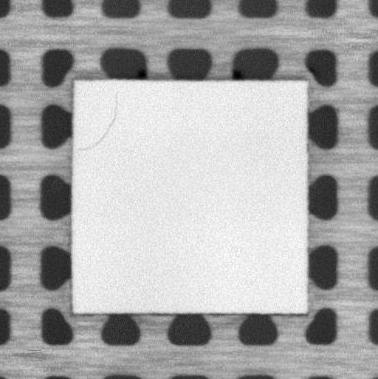DIE_CRACK: (77, 91, 121, 152)
